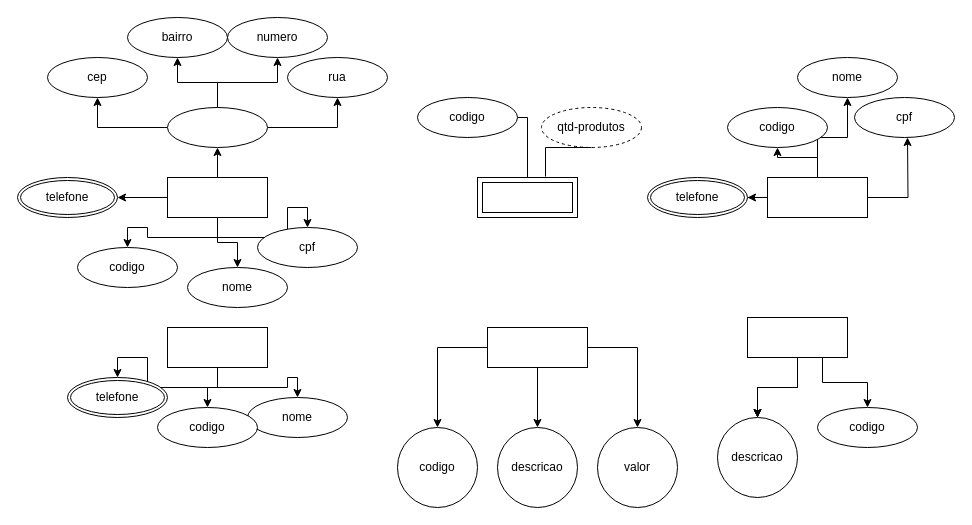
Image size: 972x525. Some labels were removed from this diagram. Each missing label, with the box of its shape:
CLIENTE: (166, 176, 268, 218)
COMPRA: (476, 176, 578, 218)
DEPARTAMENTO: (746, 316, 848, 358)
endereco: (166, 106, 268, 148)
FORNECEDOR: (166, 326, 268, 368)
FUNCIONARIO: (766, 176, 868, 218)
PRODUTO: (486, 326, 588, 368)
